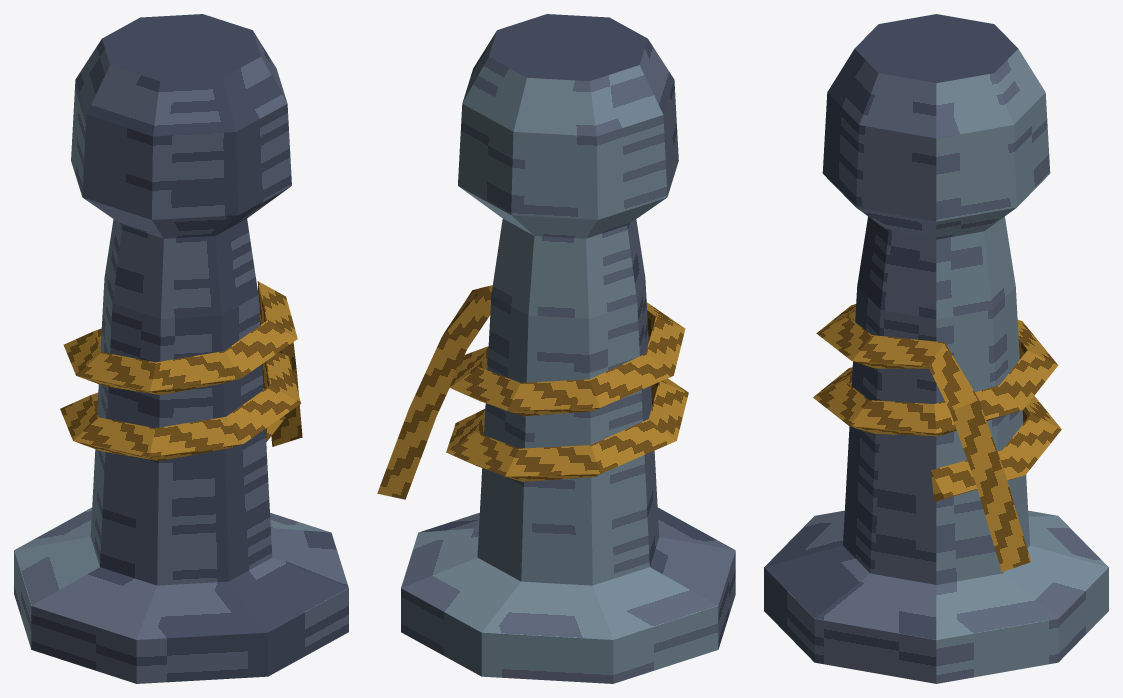
Rendered from IND-08_Bita_de_amarre.gltf.
3 views of the same model, side by side, from view 1: azimuth 30°, elevation 25°; view 2: azimuth 150°, elevation 25°; view 3: azimuth 270°, elevation 25° (orthographic).
Visible parts, largest first — view 1: IND-08_Bita_de_amarre-convcol; view 2: IND-08_Bita_de_amarre-convcol; view 3: IND-08_Bita_de_amarre-convcol.
Boxes of the visible parts, x1,y1,x2,y2 form: IND-08_Bita_de_amarre-convcol: (14,14,348,683); IND-08_Bita_de_amarre-convcol: (377,14,735,683); IND-08_Bita_de_amarre-convcol: (764,14,1108,683).
Bounding box in the file's own units: 0.5063 × 0.9 × 0.5.
Materials: 1 (1 with a texture image).
